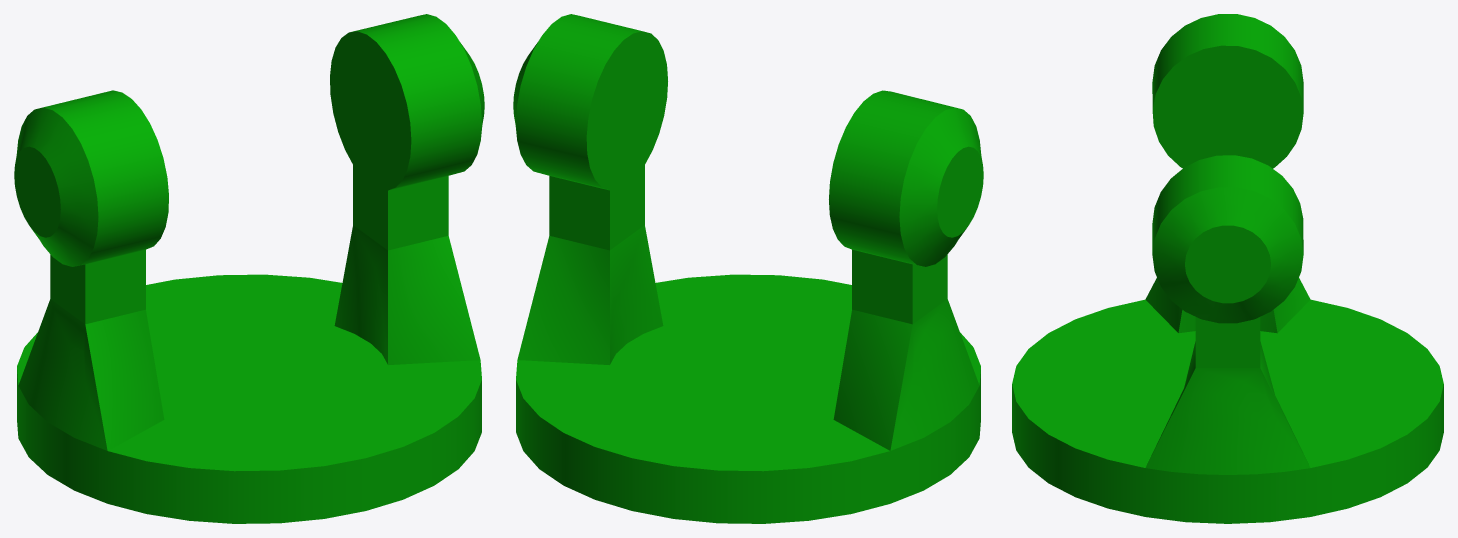
File: cutemark-Base.gltf
3 views of the same model, side by side, from view 1: azimuth 30°, elevation 25°; view 2: azimuth 150°, elevation 25°; view 3: azimuth 270°, elevation 25° (orthographic). The views are drawn at different scales.
Visible parts, largest first — view 1: Base; view 2: Base; view 3: Base.
Boxes of the visible parts, <box> form: Base: <box>14,14,484,523</box>; Base: <box>513,14,983,523</box>; Base: <box>1012,14,1443,523</box>.
Bounding box in the file's own units: 0.042 × 0.034 × 0.04.
